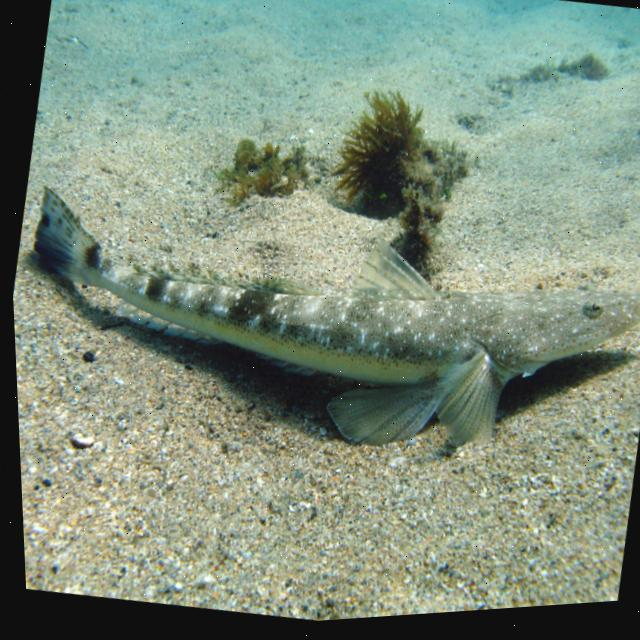Flathead: (6, 133, 640, 516)
